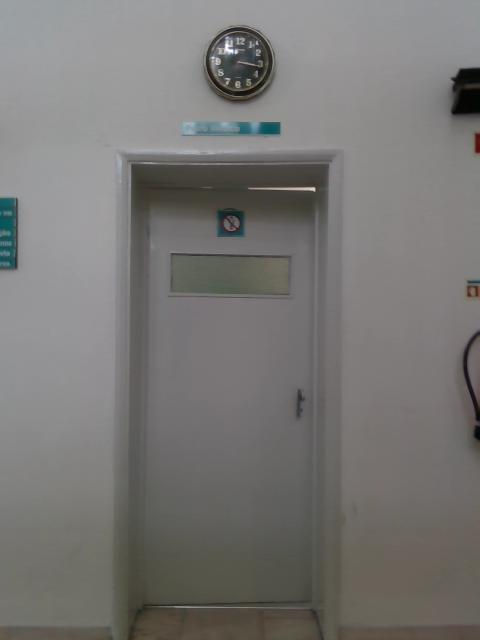door: (142, 189, 311, 607)
